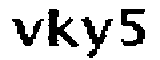5: (119, 6, 146, 49)
k: (46, 6, 80, 50)
v: (10, 17, 44, 49)
y: (80, 15, 113, 60)
